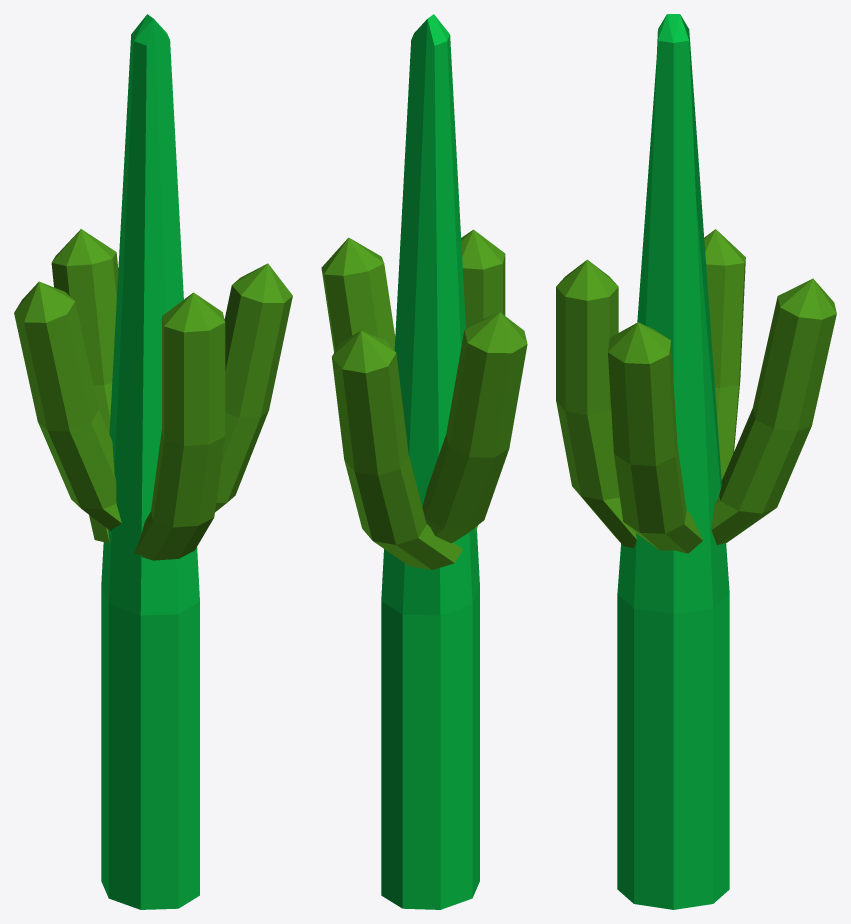
The model's file is サボテン面155.fbx.
3 views of the same model, side by side, from view 1: azimuth 30°, elevation 25°; view 2: azimuth 150°, elevation 25°; view 3: azimuth 270°, elevation 25° (orthographic).
Parts seen in each view (by area): view 1: 円柱, 円柱.001; view 2: 円柱, 円柱.001; view 3: 円柱, 円柱.001.
Part boxes in pixels (x1,y1,x2,y2): 円柱: (101, 14, 199, 909); 円柱.001: (14, 229, 292, 560); 円柱: (381, 14, 479, 909); 円柱.001: (321, 229, 527, 569); 円柱: (617, 14, 729, 909); 円柱.001: (556, 229, 836, 553).
Size of the model in its own units: 159 by 569 by 165.
